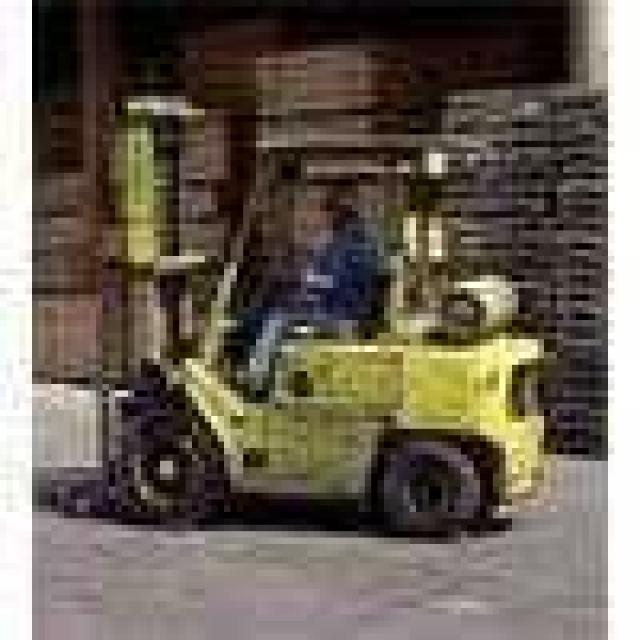Chariot elevateur: (32, 115, 550, 538)
